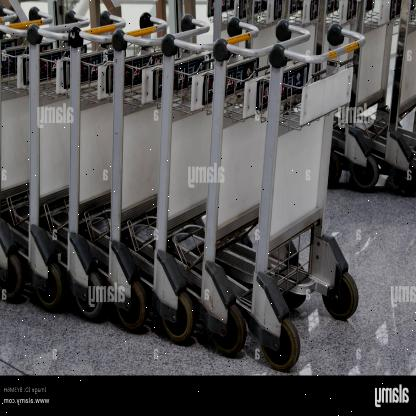airport-trolley: (154, 24, 370, 371), (49, 14, 257, 346), (113, 20, 314, 359), (9, 11, 210, 332), (0, 8, 127, 320), (0, 8, 89, 308), (0, 5, 52, 299)
